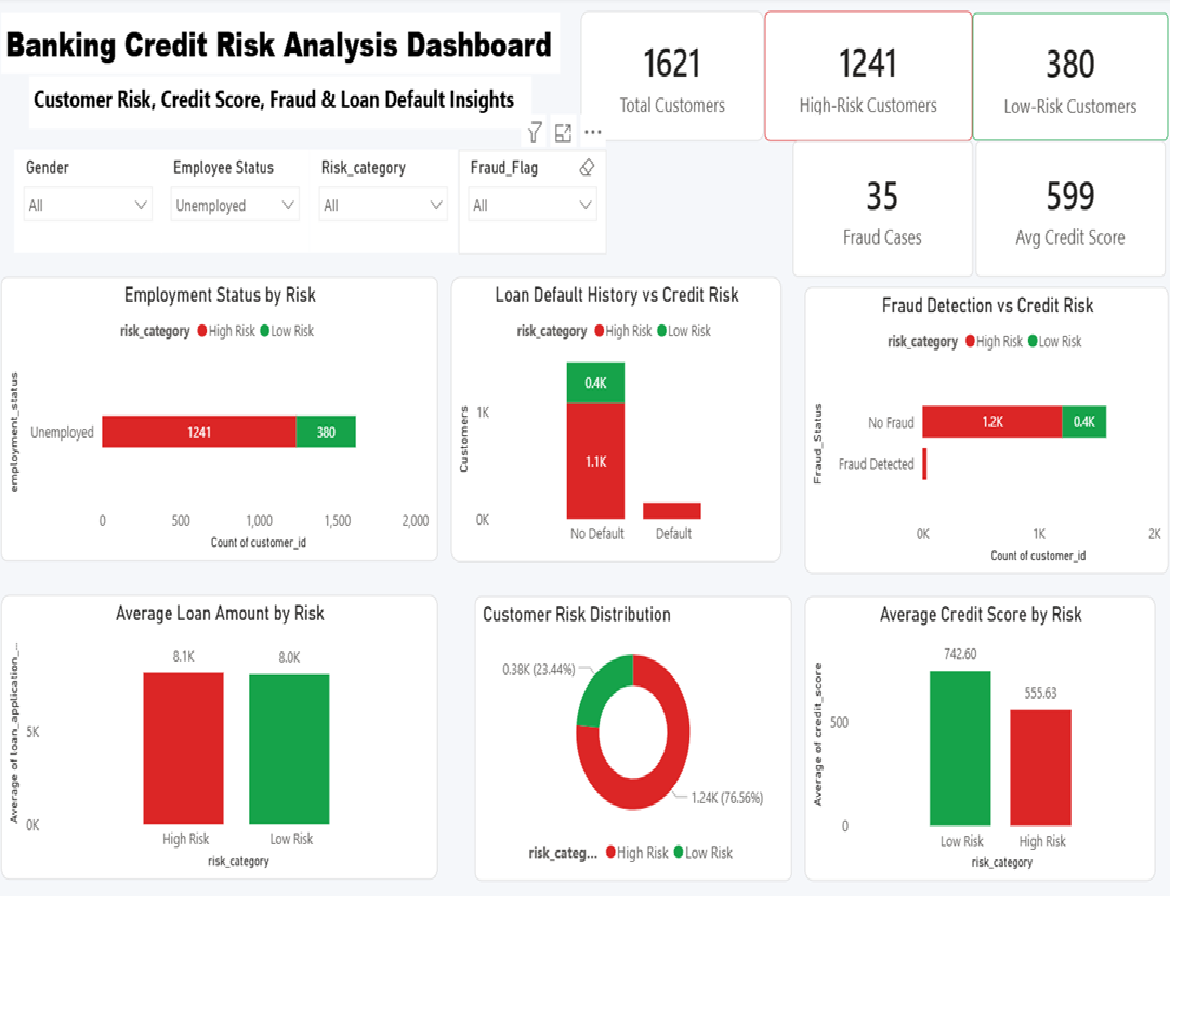

This screenshot's page, from the dashboard's own definition file:
{"tool":"powerbi","page":{"name":"Page 1","canvas":[1280,720],"ordinal":0},"visuals":[{"type":"textbox","box":[15.1,12.3,601,48],"z":0},{"type":"cardVisual","fields":{"Data":["Count(credit_risk_dataset.Column1)"]},"box":[638.9,11.9,197.1,102.1],"z":1000},{"type":"cardVisual","fields":{"Data":["credit_risk_dataset.High Risk Customers"]},"box":[836.1,11.9,223.3,102.1],"z":2000},{"type":"cardVisual","fields":{"Data":["credit_risk_dataset.Fraud Cases"]},"box":[865.8,114,193.6,106.9],"z":3000},{"type":"cardVisual","fields":{"Data":["credit_risk_dataset.Low Risk Customers"]},"box":[1059.3,13.1,211.4,100.9],"z":4000},{"type":"cardVisual","fields":{"Data":["credit_risk_dataset.Avg Credit Score"]},"box":[1062.9,114,204.3,106.9],"z":5000},{"type":"donutChart","title":"Customer Risk Distribution","fields":{"Category":["credit_risk_dataset.risk_category"],"Y":["Count(credit_risk_dataset.Column1)"]},"box":[524.8,472.7,340.5,225.1],"z":6000},{"type":"clusteredColumnChart","title":"Average Credit Score by Risk","fields":{"Category":["credit_risk_dataset.risk_category"],"Y":["Avg(credit_risk_dataset.credit_score)"]},"box":[879.3,472.7,377.1,225.1],"z":7000},{"type":"columnChart","title":"Loan Default History vs Credit Risk","fields":{"Series":["credit_risk_dataset.risk_category"],"Y":["CountNonNull(credit_risk_dataset.Column1)"],"Category":["credit_risk_dataset.Loan_Default_Status"]},"box":[498.8,220.9,355.1,225.6],"z":8000},{"type":"barChart","title":"Fraud Detection vs Credit Risk","fields":{"Series":["credit_risk_dataset.risk_category"],"Y":["CountNonNull(credit_risk_dataset.customer_id)"],"Category":["credit_risk_dataset.Fraud_Status"]},"box":[879.1,229.1,391.9,226.7],"z":9000},{"type":"barChart","title":"Employment Status by Risk","fields":{"Category":["credit_risk_dataset.employment_status"],"Series":["credit_risk_dataset.risk_category"],"Y":["CountNonNull(credit_risk_dataset.customer_id)"]},"box":[15.1,220.9,469.3,225],"z":10000},{"type":"clusteredColumnChart","title":"Average Loan Amount by Risk","fields":{"Category":["credit_risk_dataset.risk_category"],"Y":["Avg(credit_risk_dataset.loan_application_amount)"]},"box":[15.1,472,469.3,225],"z":11000},{"type":"slicer","fields":{"Values":["credit_risk_dataset.gender"]},"box":[28.5,121.1,159.1,81.9],"z":12000},{"type":"slicer","fields":{"Values":["credit_risk_dataset.fraud_flag"]},"box":[507.1,121.1,159.1,81.9],"z":13000},{"type":"slicer","fields":{"Values":["credit_risk_dataset.employment_status"]},"box":[187.6,121.1,159.1,81.9],"z":14000},{"type":"slicer","fields":{"Values":["credit_risk_dataset.risk_category"]},"box":[346.8,121.1,159.1,81.9],"z":15000},{"type":"textbox","box":[45.1,62.9,540.4,41.6],"z":16000}]}

Visuals, with their boxes on the page's 1280x720 design canvas (x1, y1, x2, y2). These are canvas units, not pixel positions in the 1198x1011 screenshot, which may show the page scaled, cropped or inside an application window:
textbox: <region>15, 12, 616, 60</region>
cardVisual - Count(credit_risk_dataset.Column1): <region>639, 12, 836, 114</region>
cardVisual - credit_risk_dataset.High Risk Customers: <region>836, 12, 1059, 114</region>
cardVisual - credit_risk_dataset.Fraud Cases: <region>866, 114, 1059, 221</region>
cardVisual - credit_risk_dataset.Low Risk Customers: <region>1059, 13, 1271, 114</region>
cardVisual - credit_risk_dataset.Avg Credit Score: <region>1063, 114, 1267, 221</region>
"Customer Risk Distribution" donutChart: <region>525, 473, 865, 698</region>
"Average Credit Score by Risk" clusteredColumnChart: <region>879, 473, 1256, 698</region>
"Loan Default History vs Credit Risk" columnChart: <region>499, 221, 854, 446</region>
"Fraud Detection vs Credit Risk" barChart: <region>879, 229, 1271, 456</region>
"Employment Status by Risk" barChart: <region>15, 221, 484, 446</region>
"Average Loan Amount by Risk" clusteredColumnChart: <region>15, 472, 484, 697</region>
slicer - credit_risk_dataset.gender: <region>28, 121, 188, 203</region>
slicer - credit_risk_dataset.fraud_flag: <region>507, 121, 666, 203</region>
slicer - credit_risk_dataset.employment_status: <region>188, 121, 347, 203</region>
slicer - credit_risk_dataset.risk_category: <region>347, 121, 506, 203</region>
textbox: <region>45, 63, 586, 104</region>
